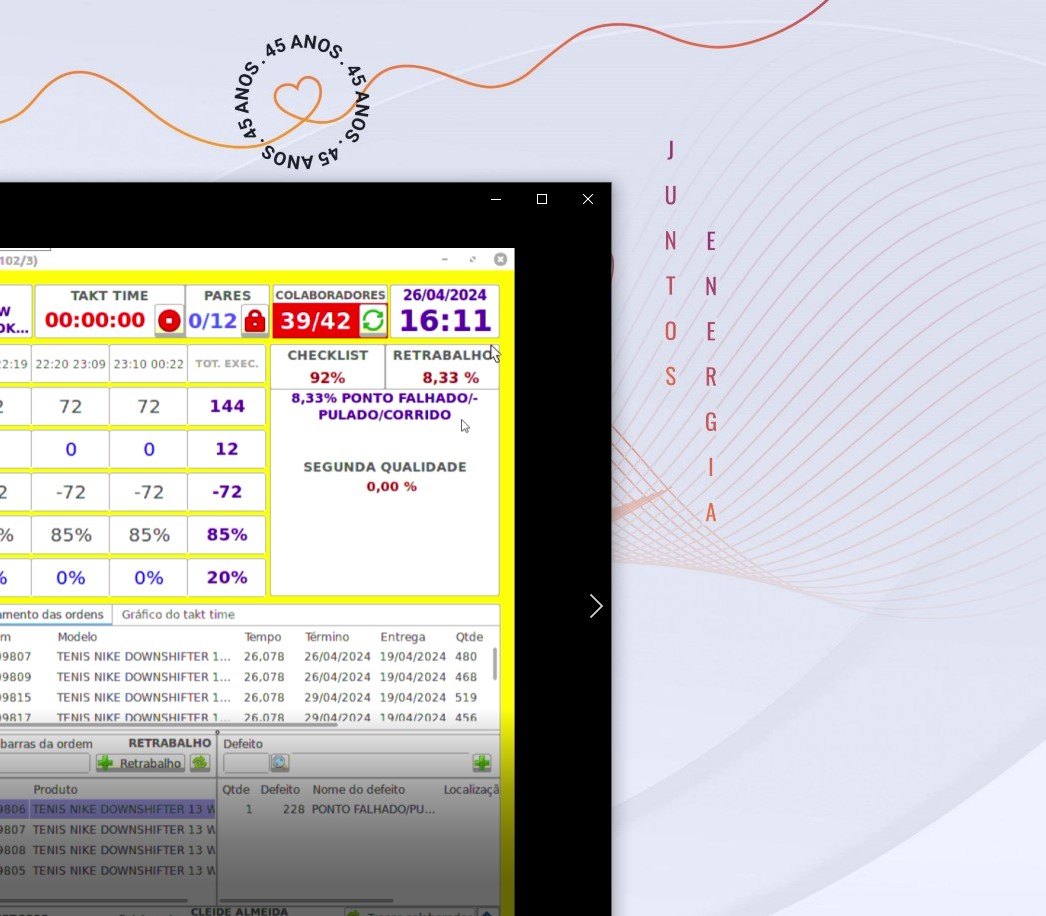takt_time: (35, 285, 155, 333)
